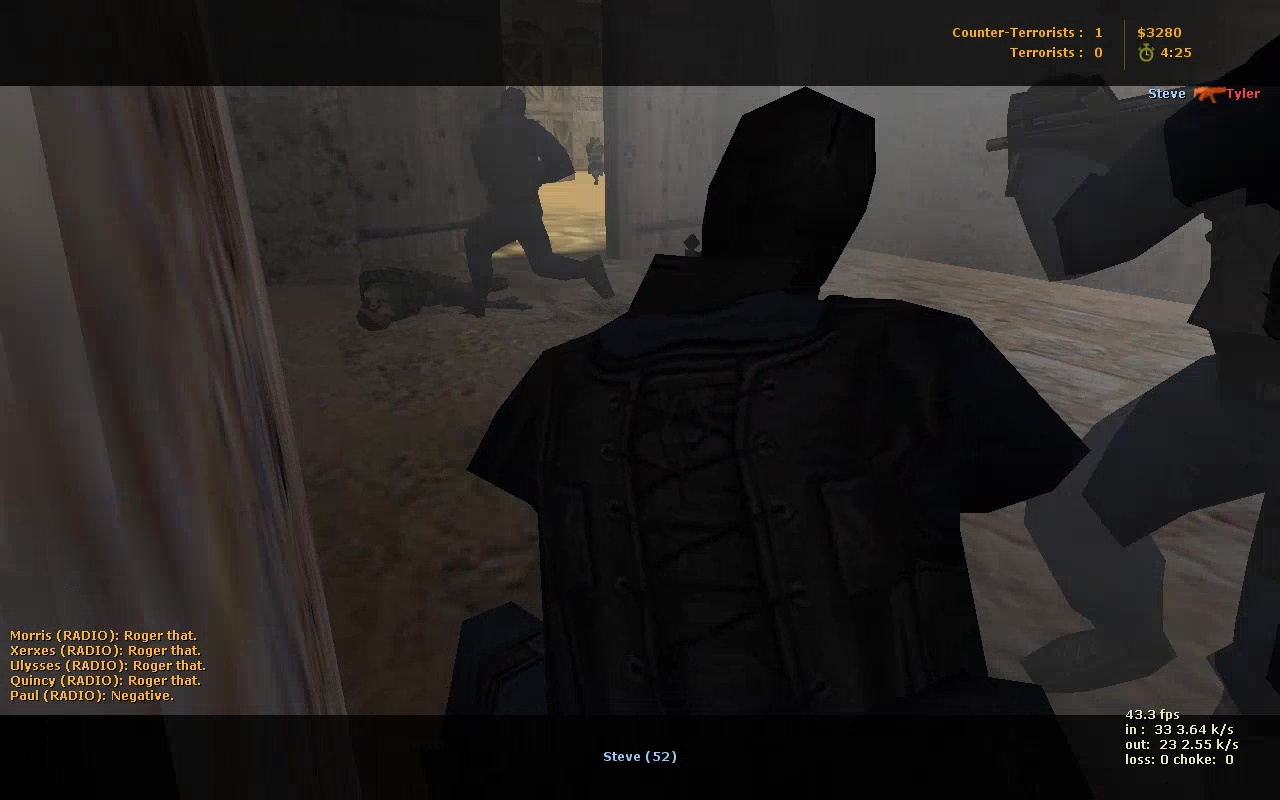ct: (465, 88, 624, 311)
